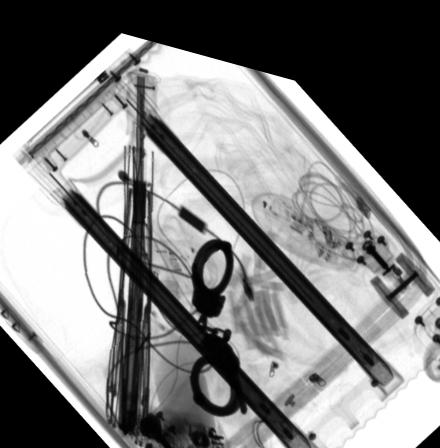HandCuffs: (187, 227, 250, 406)
